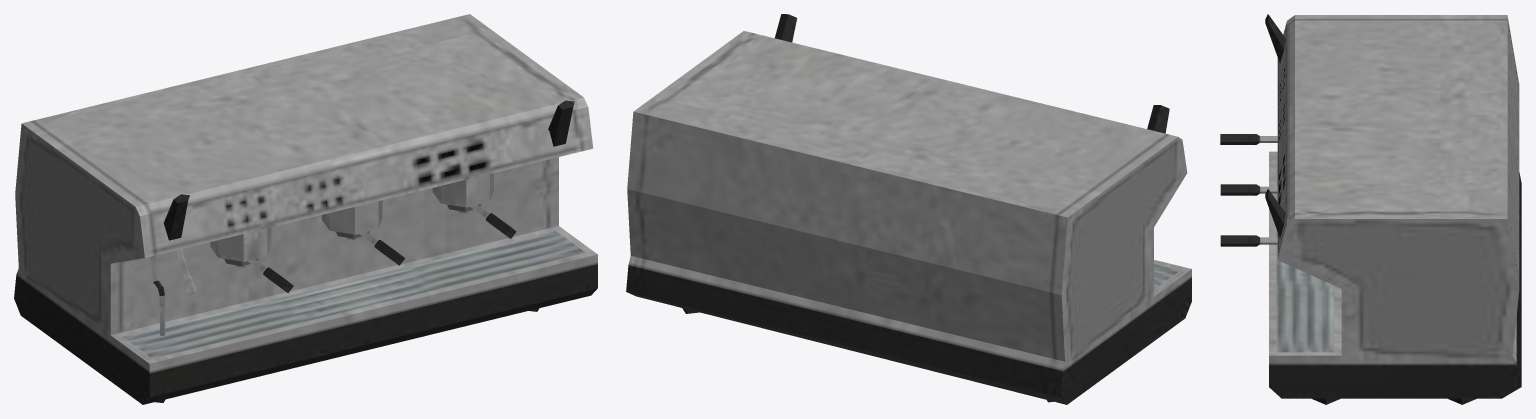
File: coffee machine model 2.fbx
3 renders of one model, left to right at view 1: azimuth 30°, elevation 25°; view 2: azimuth 150°, elevation 25°; view 3: azimuth 270°, elevation 25°, orthographic. The views are drawn at different scales.
Parts seen in each view (by area): view 1: Coffee_machine, Coffee_machine.002, Coffee_machine.003, Coffee_machine.001; view 2: Coffee_machine; view 3: Coffee_machine, Coffee_machine.003, Coffee_machine.001, Coffee_machine.002.
Part boxes in pixels (left/top/right/bottom): Coffee_machine: left=14, top=14, right=597, bottom=404; Coffee_machine.002: left=223, top=258, right=293, bottom=292; Coffee_machine.003: left=445, top=204, right=516, bottom=238; Coffee_machine.001: left=334, top=231, right=404, bottom=265; Coffee_machine: left=626, top=14, right=1191, bottom=404; Coffee_machine: left=1265, top=14, right=1521, bottom=404; Coffee_machine.003: left=1220, top=235, right=1277, bottom=246; Coffee_machine.001: left=1220, top=184, right=1277, bottom=195; Coffee_machine.002: left=1220, top=134, right=1277, bottom=144.
Bounding box in the file's own units: 152 × 73.44 × 95.04.
